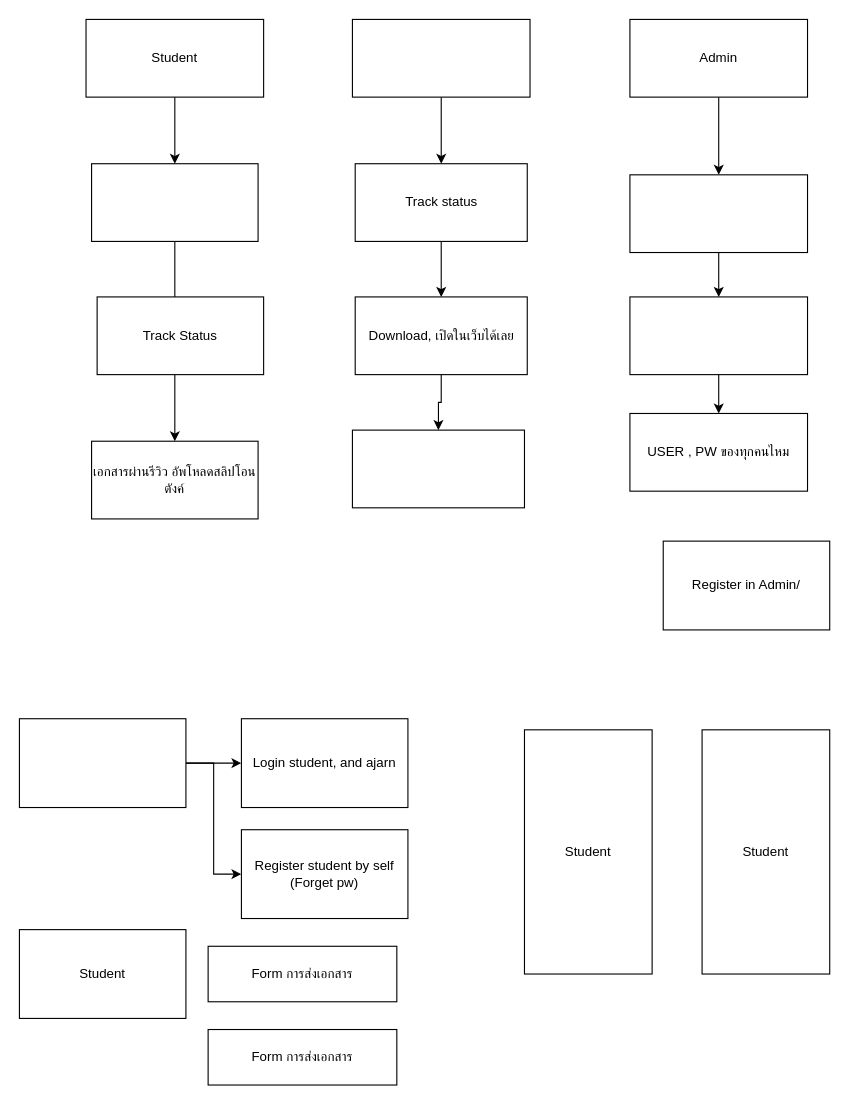
Some shapes in this 849 by 1104 pixel diagram are drawn without their labels. The centre of each missing label's shape, as x and y in pixels:
"Approve/ Reject with comment" belongs at point (437, 468).
"Create user reviewer" belongs at point (718, 213).
"Homepage" belongs at point (102, 763).
"Reviewer" belongs at point (440, 57).
"คล้ายอาจารย์" belongs at point (718, 335).
"ส่งไฟล์โครงงาน project เข้าสู่ระบบ" belongs at point (174, 202).
